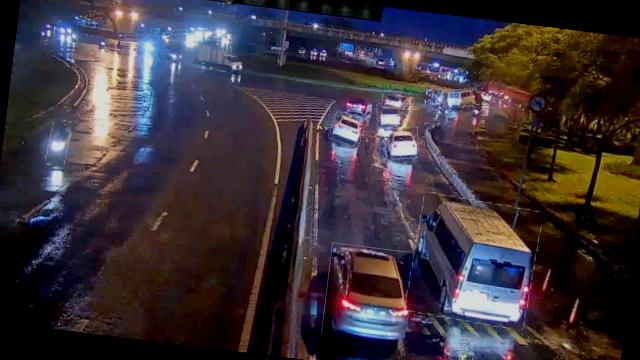Bike: (46, 119, 72, 167)
Bus: (404, 193, 542, 330), (441, 86, 473, 110)
Car: (321, 243, 414, 342), (382, 124, 421, 161), (328, 112, 365, 146), (374, 99, 408, 128), (382, 89, 411, 110), (342, 95, 371, 115)
